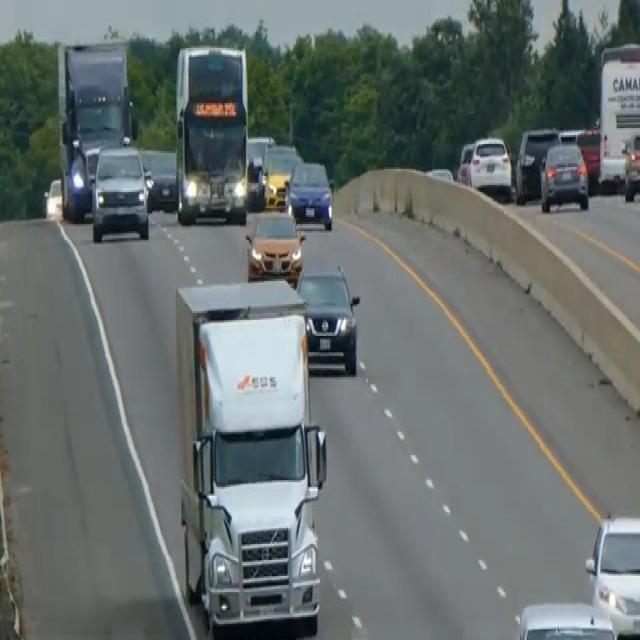bus: (173, 43, 249, 224)
car: (295, 263, 360, 375), (584, 510, 639, 638), (90, 142, 150, 242), (244, 206, 305, 283), (515, 599, 618, 638), (539, 138, 589, 212), (514, 125, 560, 202), (285, 158, 334, 230), (467, 133, 512, 199), (558, 124, 600, 188), (258, 142, 299, 206), (140, 148, 178, 212), (246, 133, 274, 183), (621, 126, 639, 201), (456, 139, 474, 185)
lorry: (173, 276, 330, 634)
